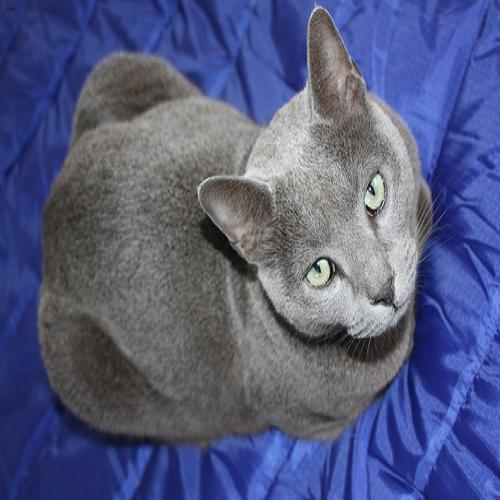rblue: (203, 1, 442, 365)
